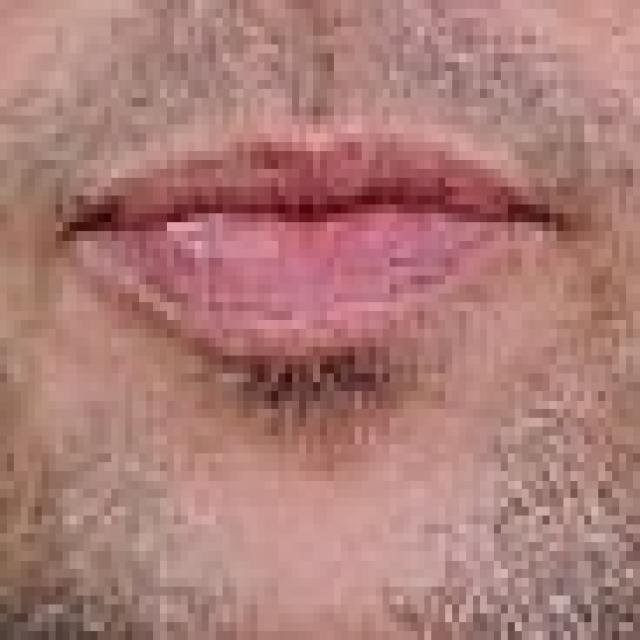closed-mouth: (49, 106, 564, 412)
